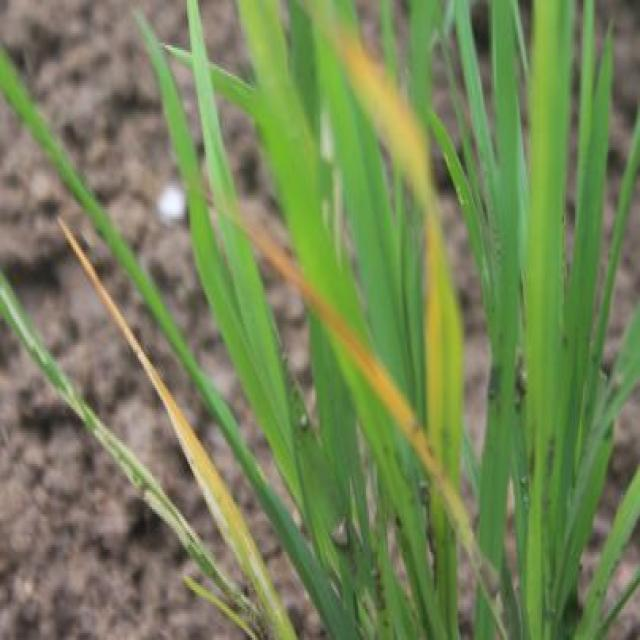Tungro: (55, 213, 303, 637), (301, 11, 463, 607), (308, 0, 486, 515), (306, 6, 442, 205), (422, 209, 457, 506)
